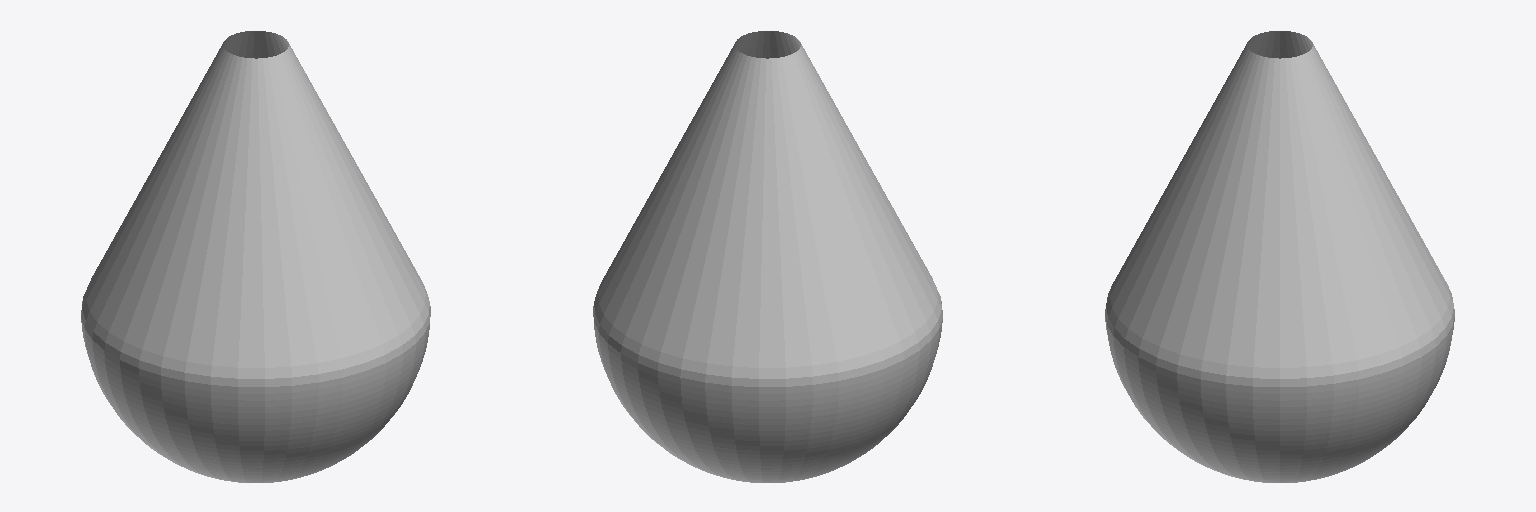
Rendered from E_body.obj.
3 renders of one model, left to right at view 1: azimuth 30°, elevation 25°; view 2: azimuth 150°, elevation 25°; view 3: azimuth 270°, elevation 25°, orthographic.
Visible parts, largest first — view 1: body; view 2: body; view 3: body.
Boxes of the visible parts, box(x1,y1,x2,y2) form: body: box(81, 31, 430, 482); body: box(593, 31, 942, 482); body: box(1105, 31, 1454, 482).
Size of the model in its own units: 1.97 by 2.62 by 1.97.